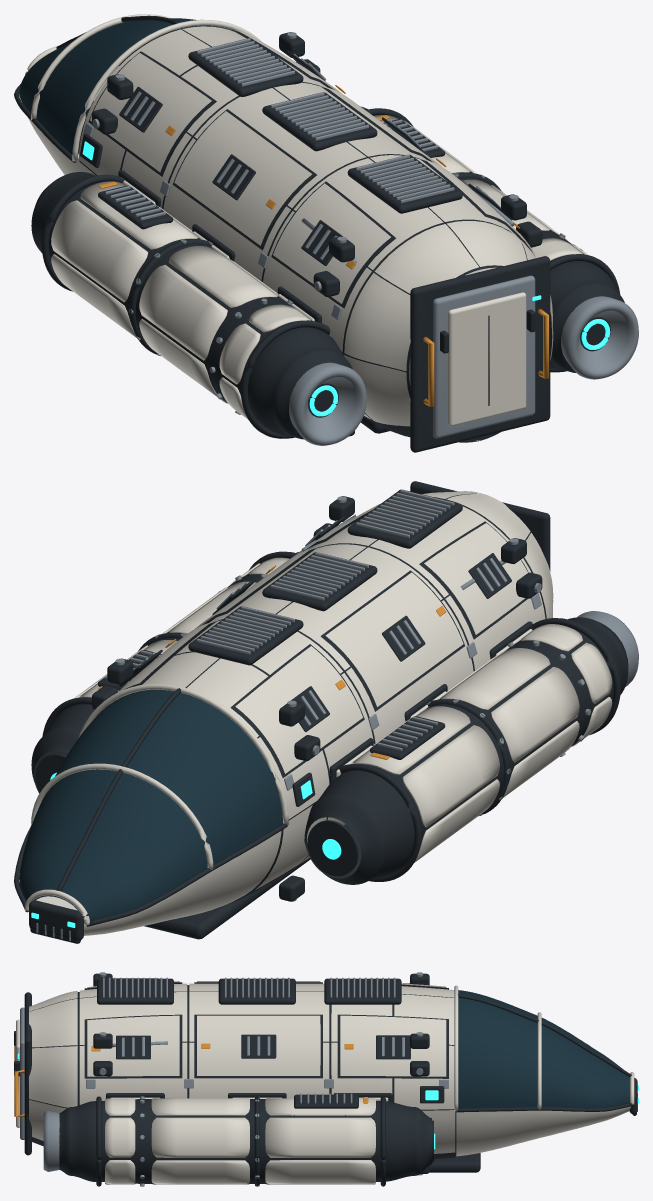
File: spacecraft-mechanisms-lod0.glb
The picture shows the model from 3 angles, top to bottom: view 1: azimuth 30°, elevation 25°; view 2: azimuth 150°, elevation 25°; view 3: azimuth 270°, elevation 25°; orthographic projection. The views are drawn at different scales.
Visible parts, largest first — view 1: Exterior_Hull_Ceramic_WarmWhite, Exterior_Hull_Structure_Graphite, Exterior_EnginePod_-1_Ceramic_WarmWhite, Exterior_EnginePod_-1_Structure_Graphite, Exterior_Hull_Brushed_Titanium, Door_Outer, AftFrame_0, Canopy_Glass, Exterior_EnginePod_1_Structure_Graphite, Exterior_EnginePod_-1_Brushed_Titanium, AftFrame_0.001, Exterior_EnginePod_1_Brushed_Titanium (+2 smaller); view 2: Exterior_Hull_Ceramic_WarmWhite, Canopy_Glass, Exterior_Hull_Structure_Graphite, Exterior_EnginePod_-1_Ceramic_WarmWhite, Exterior_EnginePod_-1_Structure_Graphite, Exterior_Hull_Brushed_Titanium, Exterior_EnginePod_1_Structure_Graphite, Exterior_EnginePod_-1_Brushed_Titanium, Exterior_EnginePod_1_Ceramic_WarmWhite, AftFrame_0; view 3: Exterior_Hull_Ceramic_WarmWhite, Exterior_EnginePod_1_Ceramic_WarmWhite, Exterior_Hull_Structure_Graphite, Canopy_Glass, Exterior_EnginePod_1_Structure_Graphite, Exterior_Hull_Brushed_Titanium, Exterior_EnginePod_1_Brushed_Titanium, AftFrame_0, AftFrame_0.001, Exterior_Hull_Maintenance_Amber.
Part boxes in pixels (x1=…): Exterior_Hull_Ceramic_WarmWhite: x1=22, y1=14, x2=553, y2=426; Exterior_Hull_Structure_Graphite: x1=14, y1=15, x2=552, y2=442; Exterior_EnginePod_-1_Ceramic_WarmWhite: x1=51, y1=181, x2=314, y2=419; Exterior_EnginePod_-1_Structure_Graphite: x1=31, y1=172, x2=352, y2=439; Exterior_Hull_Brushed_Titanium: x1=83, y1=32, x2=539, y2=320; Door_Outer: x1=448, y1=292, x2=526, y2=426; AftFrame_0: x1=410, y1=256, x2=550, y2=452; Canopy_Glass: x1=19, y1=18, x2=233, y2=154; Exterior_EnginePod_1_Structure_Graphite: x1=361, y1=106, x2=624, y2=372; Exterior_EnginePod_-1_Brushed_Titanium: x1=105, y1=186, x2=366, y2=445; AftFrame_0.001: x1=433, y1=275, x2=535, y2=438; Exterior_EnginePod_1_Brushed_Titanium: x1=384, y1=119, x2=638, y2=379; Exterior_Hull_Ceramic_WarmWhite: x1=24, y1=491, x2=553, y2=935; Canopy_Glass: x1=19, y1=689, x2=282, y2=923; Exterior_Hull_Structure_Graphite: x1=14, y1=489, x2=546, y2=943; Exterior_EnginePod_-1_Ceramic_WarmWhite: x1=352, y1=624, x2=612, y2=862; Exterior_EnginePod_-1_Structure_Graphite: x1=304, y1=617, x2=628, y2=884; Exterior_Hull_Brushed_Titanium: x1=36, y1=489, x2=541, y2=940; Exterior_EnginePod_1_Structure_Graphite: x1=31, y1=551, x2=298, y2=793; Exterior_EnginePod_-1_Brushed_Titanium: x1=377, y1=611, x2=638, y2=815; Exterior_EnginePod_1_Ceramic_WarmWhite: x1=74, y1=557, x2=289, y2=698; AftFrame_0: x1=410, y1=481, x2=550, y2=571; Exterior_Hull_Ceramic_WarmWhite: x1=29, y1=981, x2=634, y2=1156; Exterior_EnginePod_1_Ceramic_WarmWhite: x1=105, y1=1098, x2=375, y2=1184; Exterior_Hull_Structure_Graphite: x1=14, y1=973, x2=637, y2=1173; Canopy_Glass: x1=458, y1=990, x2=629, y2=1108; Exterior_EnginePod_1_Structure_Graphite: x1=59, y1=1094, x2=433, y2=1186; Exterior_Hull_Brushed_Titanium: x1=86, y1=972, x2=637, y2=1175; Exterior_EnginePod_1_Brushed_Titanium: x1=43, y1=1093, x2=352, y2=1186; AftFrame_0: x1=24, y1=992, x2=31, y2=1155; AftFrame_0.001: x1=20, y1=1007, x2=24, y2=1139; Exterior_Hull_Maintenance_Amber: x1=14, y1=1043, x2=353, y2=1117.
Bounding box in the file's own units: 7.8 × 4.8 × 15.6.
